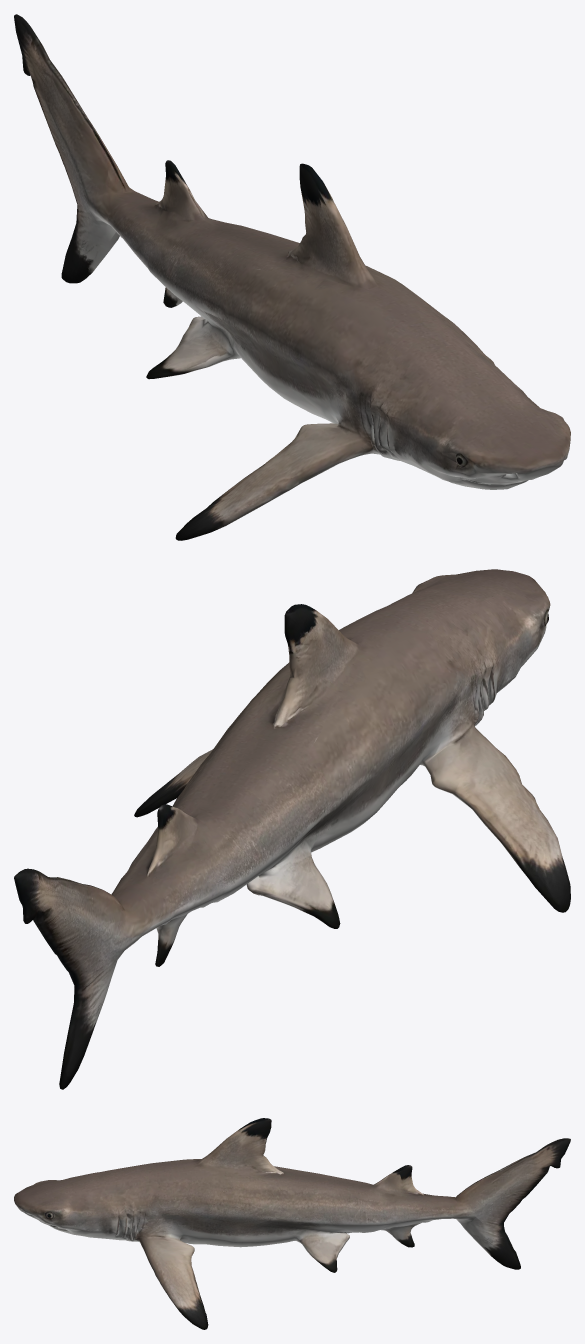
File: blacktip.glb
3 renders of one model, top to bottom at view 1: azimuth 30°, elevation 25°; view 2: azimuth 150°, elevation 25°; view 3: azimuth 270°, elevation 25°, orthographic. The views are drawn at different scales.
Visible parts, largest first — view 1: tripo_node_9fc55d73-8285-46f6-ae55-16e72a7efb04; view 2: tripo_node_9fc55d73-8285-46f6-ae55-16e72a7efb04; view 3: tripo_node_9fc55d73-8285-46f6-ae55-16e72a7efb04.
Part boxes in pixels (x1,y1,x2,y2): tripo_node_9fc55d73-8285-46f6-ae55-16e72a7efb04: (14, 14, 570, 540); tripo_node_9fc55d73-8285-46f6-ae55-16e72a7efb04: (14, 569, 570, 1089); tripo_node_9fc55d73-8285-46f6-ae55-16e72a7efb04: (14, 1118, 570, 1329).
Bounding box in the file's own units: 0.4557 × 0.3118 × 0.9992.
Materials: 1 (1 with a texture image).
